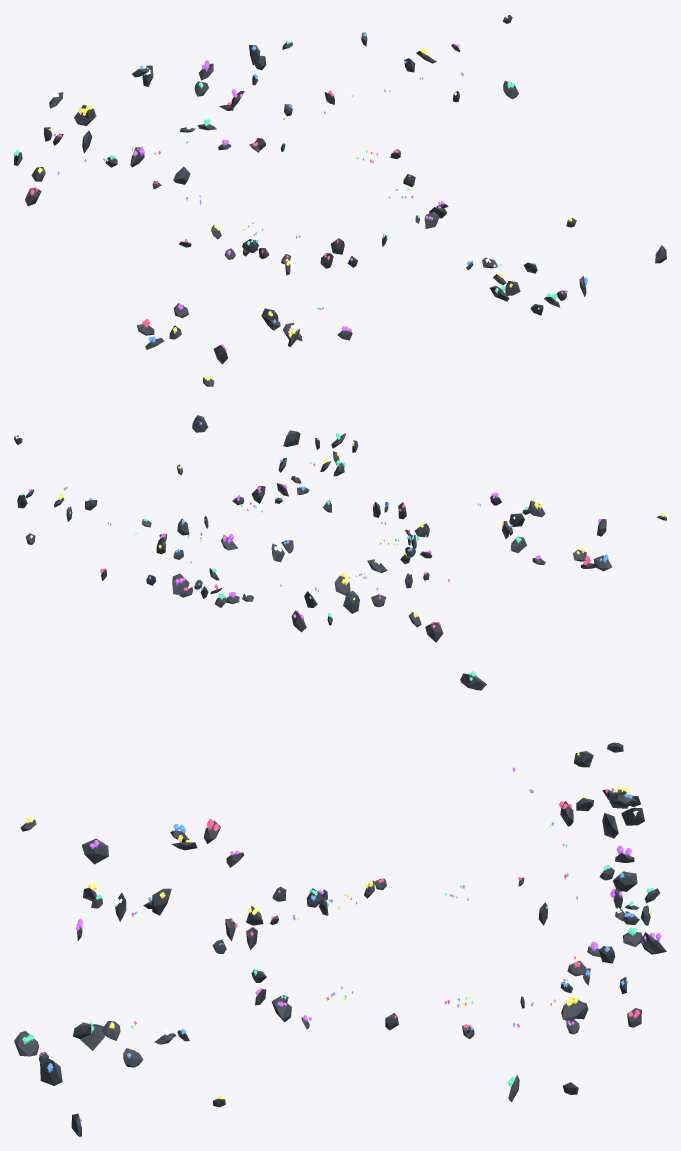
The model's file is 16_Gemas.fbx.
3 renders of one model, top to bottom at view 1: azimuth 30°, elevation 25°; view 2: azimuth 150°, elevation 25°; view 3: azimuth 270°, elevation 25°, orthographic. The views are drawn at different scales.
Bounding box in the file's own units: 23325 × 5451 × 19637.
